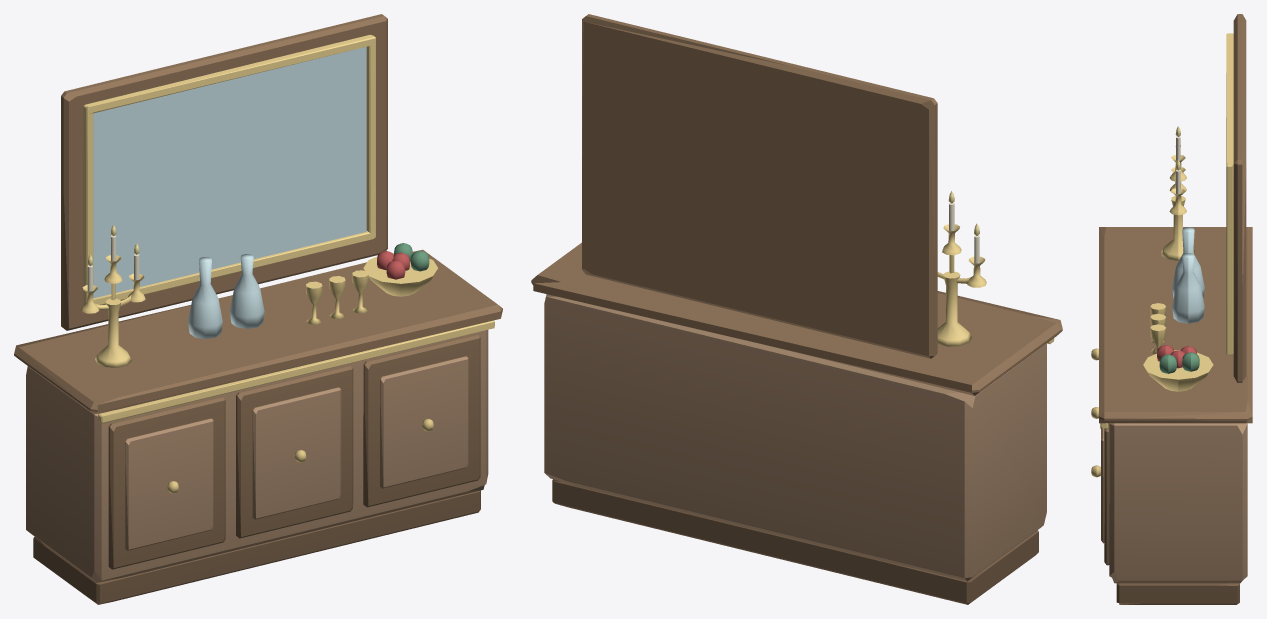
Rendered from kajuete_anrichte.glb.
3 renders of one model, left to right at view 1: azimuth 30°, elevation 25°; view 2: azimuth 150°, elevation 25°; view 3: azimuth 270°, elevation 25°, orthographic. The views are drawn at different scales.
Visible parts, largest first — view 1: G_kajuete_anrichte; view 2: G_kajuete_anrichte; view 3: G_kajuete_anrichte.
Part boxes in pixels (x1,y1,x2,y2): G_kajuete_anrichte: [14, 14, 502, 604]; G_kajuete_anrichte: [531, 14, 1062, 604]; G_kajuete_anrichte: [1091, 14, 1252, 604].
Bounding box in the file's own units: 1.78 × 1.89 × 0.6407.
